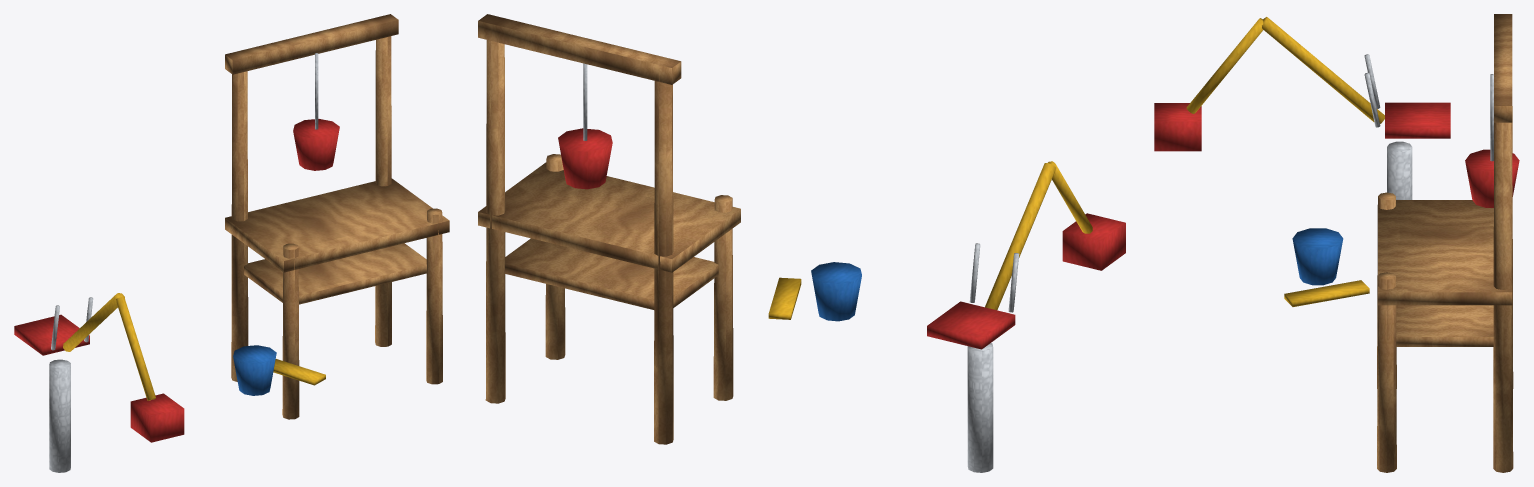
Rendered from playground_sandpit_toys.glb.
The picture shows the model from 3 angles, left to right: view 1: azimuth 30°, elevation 25°; view 2: azimuth 150°, elevation 25°; view 3: azimuth 270°, elevation 25°; orthographic projection. The views are drawn at different scales.
Parts seen in each view (by area): view 1: SandToys_wood, SandToys_red, SandToys_galv, SandToys_yellow, SandToys_blue; view 2: SandToys_wood, SandToys_red, SandToys_galv, SandToys_yellow, SandToys_blue; view 3: SandToys_wood, SandToys_red, SandToys_yellow, SandToys_blue, SandToys_galv.
Part boxes in pixels (bbox=[...]): SandToys_wood: bbox=[225, 14, 449, 419]; SandToys_red: bbox=[14, 119, 339, 442]; SandToys_galv: bbox=[49, 53, 318, 472]; SandToys_yellow: bbox=[63, 293, 325, 400]; SandToys_blue: bbox=[233, 345, 276, 395]; SandToys_wood: bbox=[478, 14, 740, 444]; SandToys_red: bbox=[558, 128, 1125, 349]; SandToys_galv: bbox=[583, 63, 1019, 472]; SandToys_yellow: bbox=[768, 161, 1092, 319]; SandToys_blue: bbox=[811, 262, 861, 321]; SandToys_wood: bbox=[1377, 14, 1513, 472]; SandToys_red: bbox=[1154, 102, 1519, 207]; SandToys_yellow: bbox=[1186, 17, 1384, 306]; SandToys_blue: bbox=[1292, 228, 1343, 285]; SandToys_galv: bbox=[1364, 54, 1493, 199].
Bounding box in the file's own units: 2.92 × 2.25 × 2.01.
Materials: 5 (5 with a texture image).
